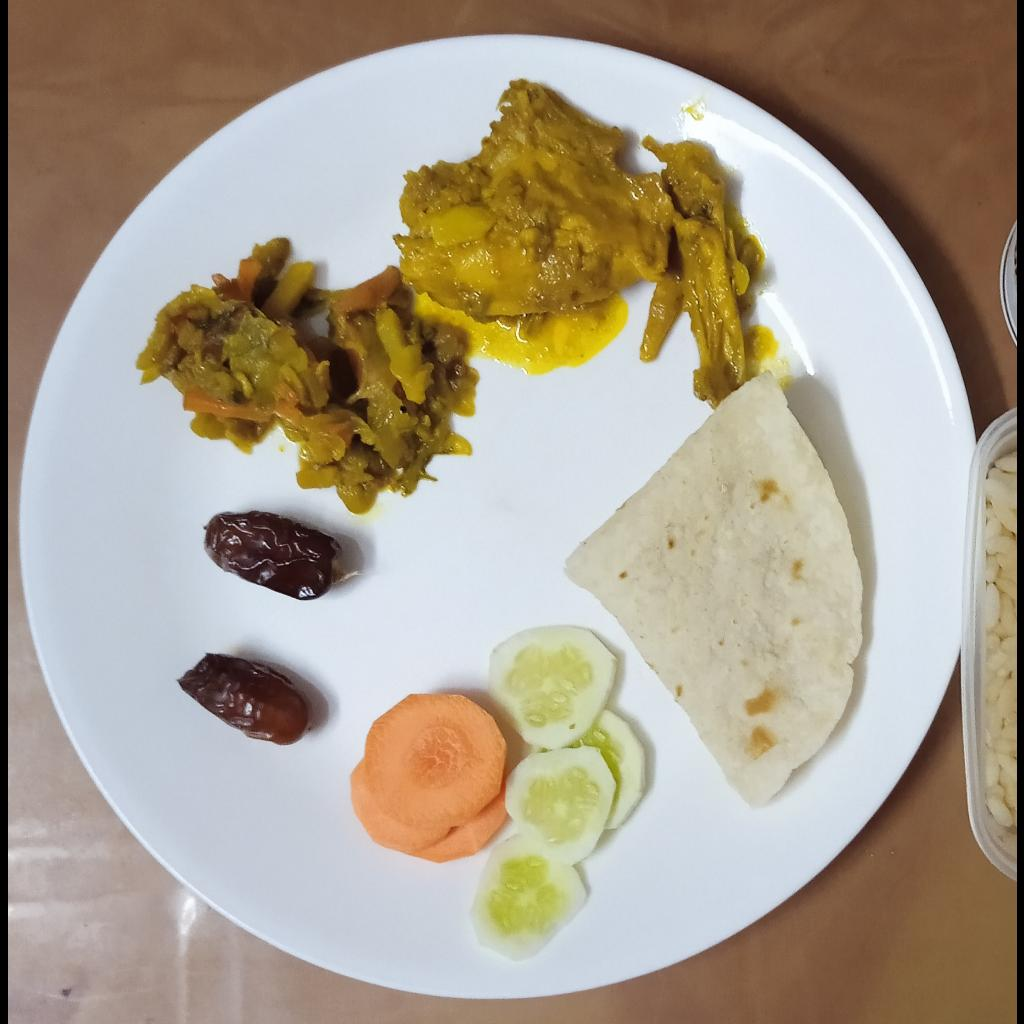carrot: (348, 692, 509, 864)
chicken: (394, 79, 751, 408)
cucumber: (471, 626, 646, 963)
dates: (175, 653, 312, 748), (203, 509, 341, 602)
ruti: (564, 372, 864, 811)
vegetable: (135, 238, 476, 517)
